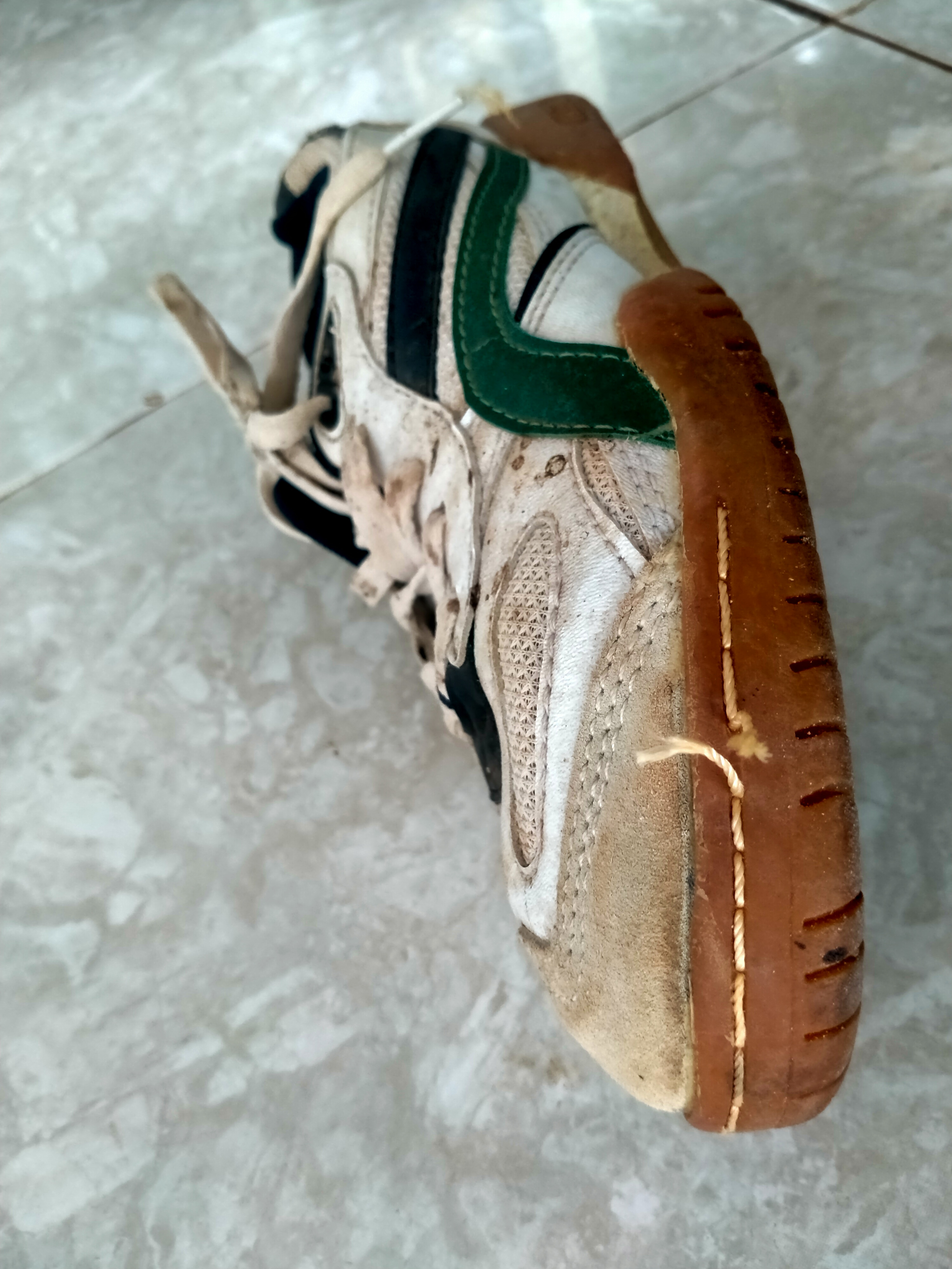broken: (697, 701, 769, 809)
